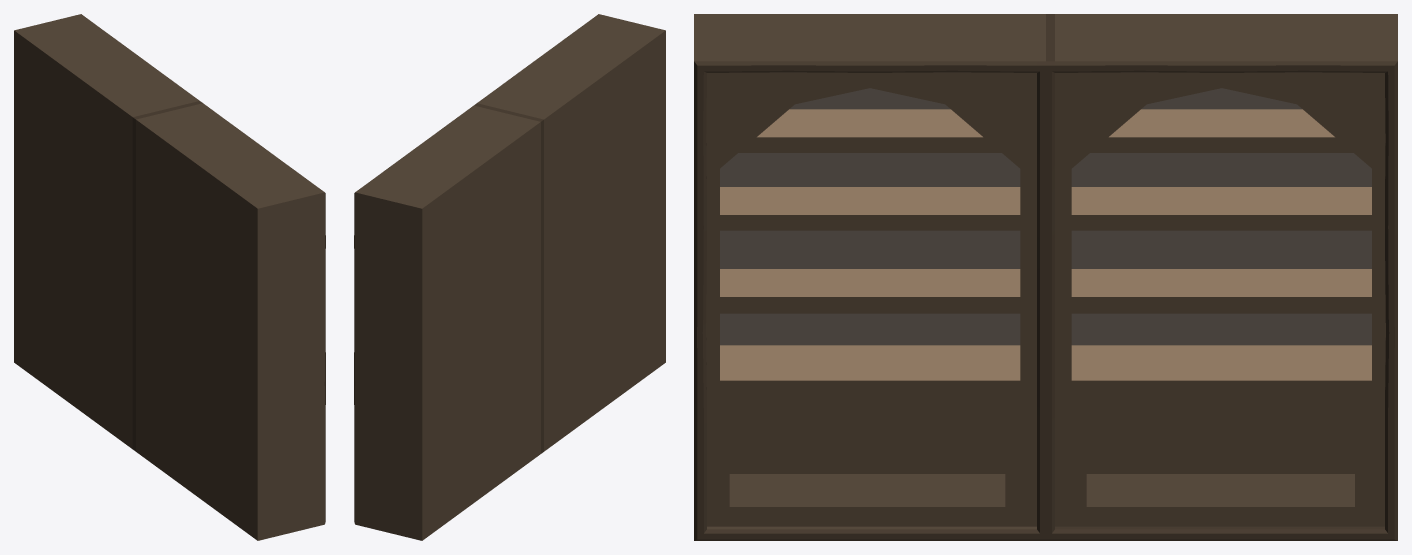
File: bookshelf_fancy.fbx
3 views of the same model, side by side, from view 1: azimuth 30°, elevation 25°; view 2: azimuth 150°, elevation 25°; view 3: azimuth 270°, elevation 25° (orthographic). The views are drawn at different scales.
Visible parts, largest first — view 1: bookshelf; view 2: bookshelf; view 3: bookshelf.
Part boxes in pixels (bbox=[...]): bookshelf: bbox=[14, 14, 325, 540]; bookshelf: bbox=[354, 14, 665, 540]; bookshelf: bbox=[694, 14, 1397, 540].
Size of the model in its own units: 80.3 by 369 by 491.
